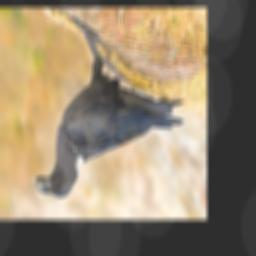Crow: (32, 16, 185, 198)
